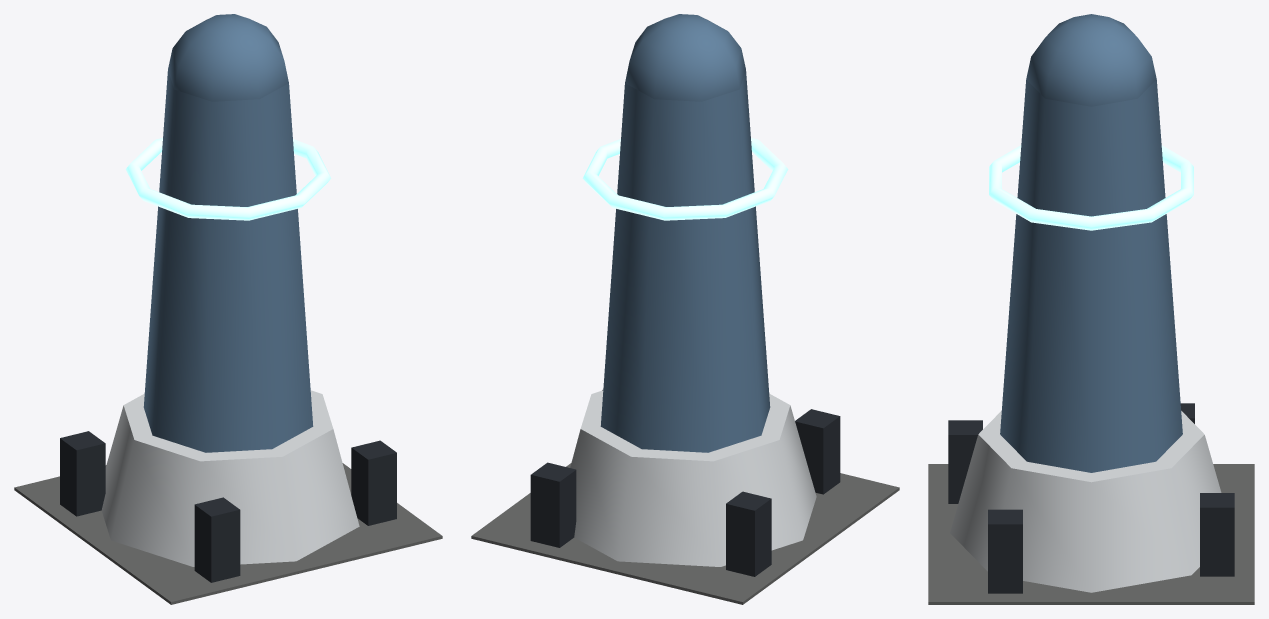
Rendered from bld_special_command_center_a09_lod1.glb.
The picture shows the model from 3 angles, left to right: view 1: azimuth 30°, elevation 25°; view 2: azimuth 150°, elevation 25°; view 3: azimuth 270°, elevation 25°; orthographic projection. The views are drawn at different scales.
Parts seen in each view (by area): view 1: body; view 2: body; view 3: body.
Boxes of the visible parts, x1=… form: body: x1=14, y1=14, x2=442, y2=604; body: x1=471, y1=14, x2=899, y2=604; body: x1=928, y1=14, x2=1254, y2=604.
Bounding box in the file's own units: 15 × 26.15 × 15.
